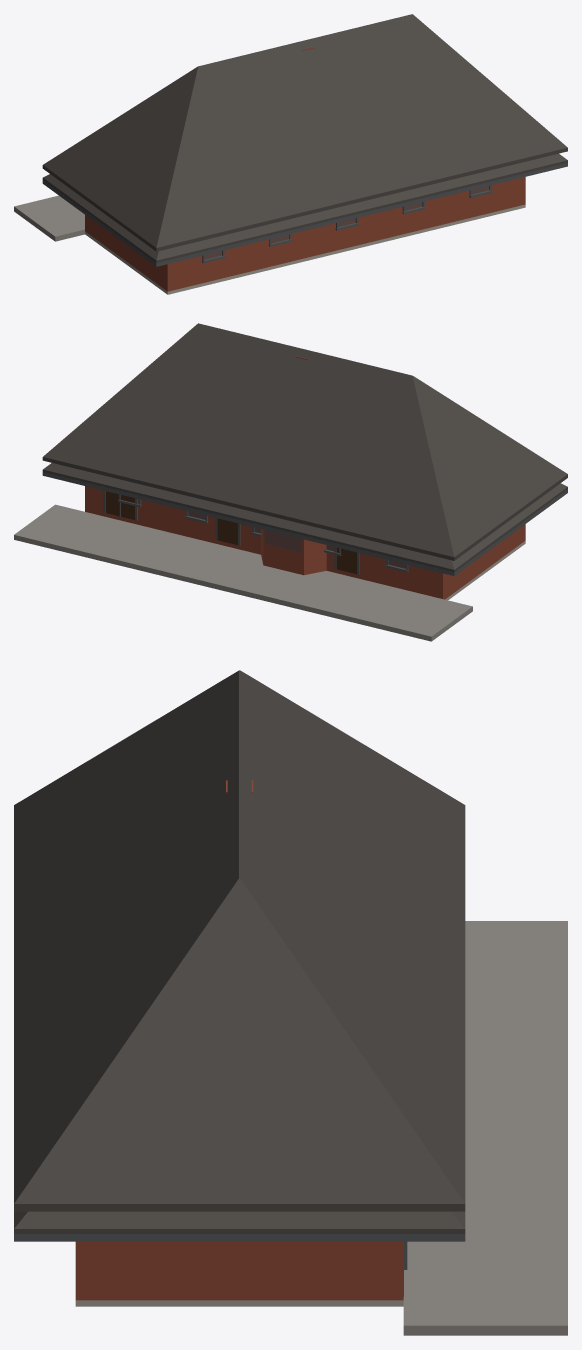
File: Fond_du_Lac_Depot.glb
3 views of the same model, one above another, from view 1: azimuth 30°, elevation 25°; view 2: azimuth 150°, elevation 25°; view 3: azimuth 270°, elevation 25° (orthographic). The views are drawn at different scales.
Parts seen in each view (by area): view 1: roof, brick, trim, platform, foundation, sash, glass; view 2: roof, platform, brick, trim, doors, glass, sash; view 3: roof, platform, brick, trim, foundation.
Part boxes in pixels (box(x1,y1,x2,y2)): roof: box(42, 14, 567, 262); brick: box(85, 177, 525, 291); trim: box(42, 163, 567, 266); platform: box(14, 195, 84, 241); foundation: box(85, 204, 525, 294); sash: box(202, 185, 492, 263); glass: box(205, 186, 489, 259); roof: box(42, 323, 567, 572); platform: box(14, 504, 472, 641); brick: box(85, 486, 525, 599); trim: box(42, 472, 567, 575); doors: box(105, 491, 356, 574); glass: box(138, 499, 405, 568); sash: box(118, 494, 408, 572); roof: box(14, 670, 465, 1233); platform: box(403, 921, 567, 1335); brick: box(75, 1241, 403, 1300); trim: box(14, 1234, 465, 1269); foundation: box(75, 1300, 403, 1306).
Size of the model in its own units: 0.7357 by 0.3041 by 0.4257.
